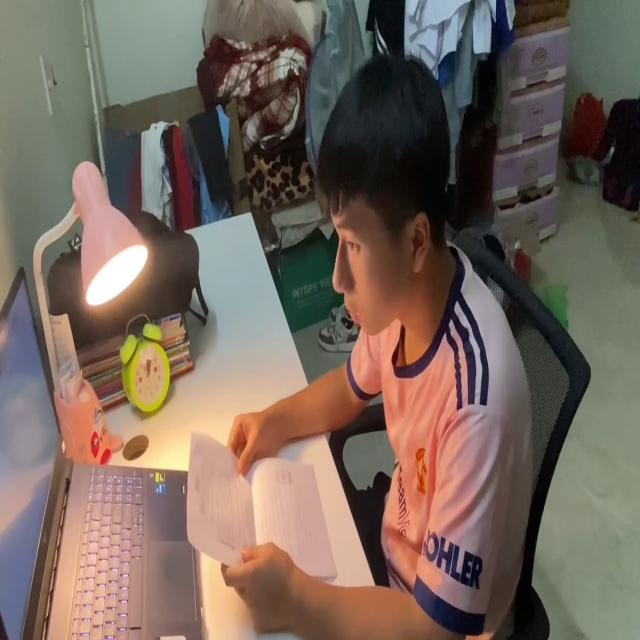book: (184, 425, 340, 584)
laptop: (2, 259, 201, 640)
student: (216, 55, 542, 640)
